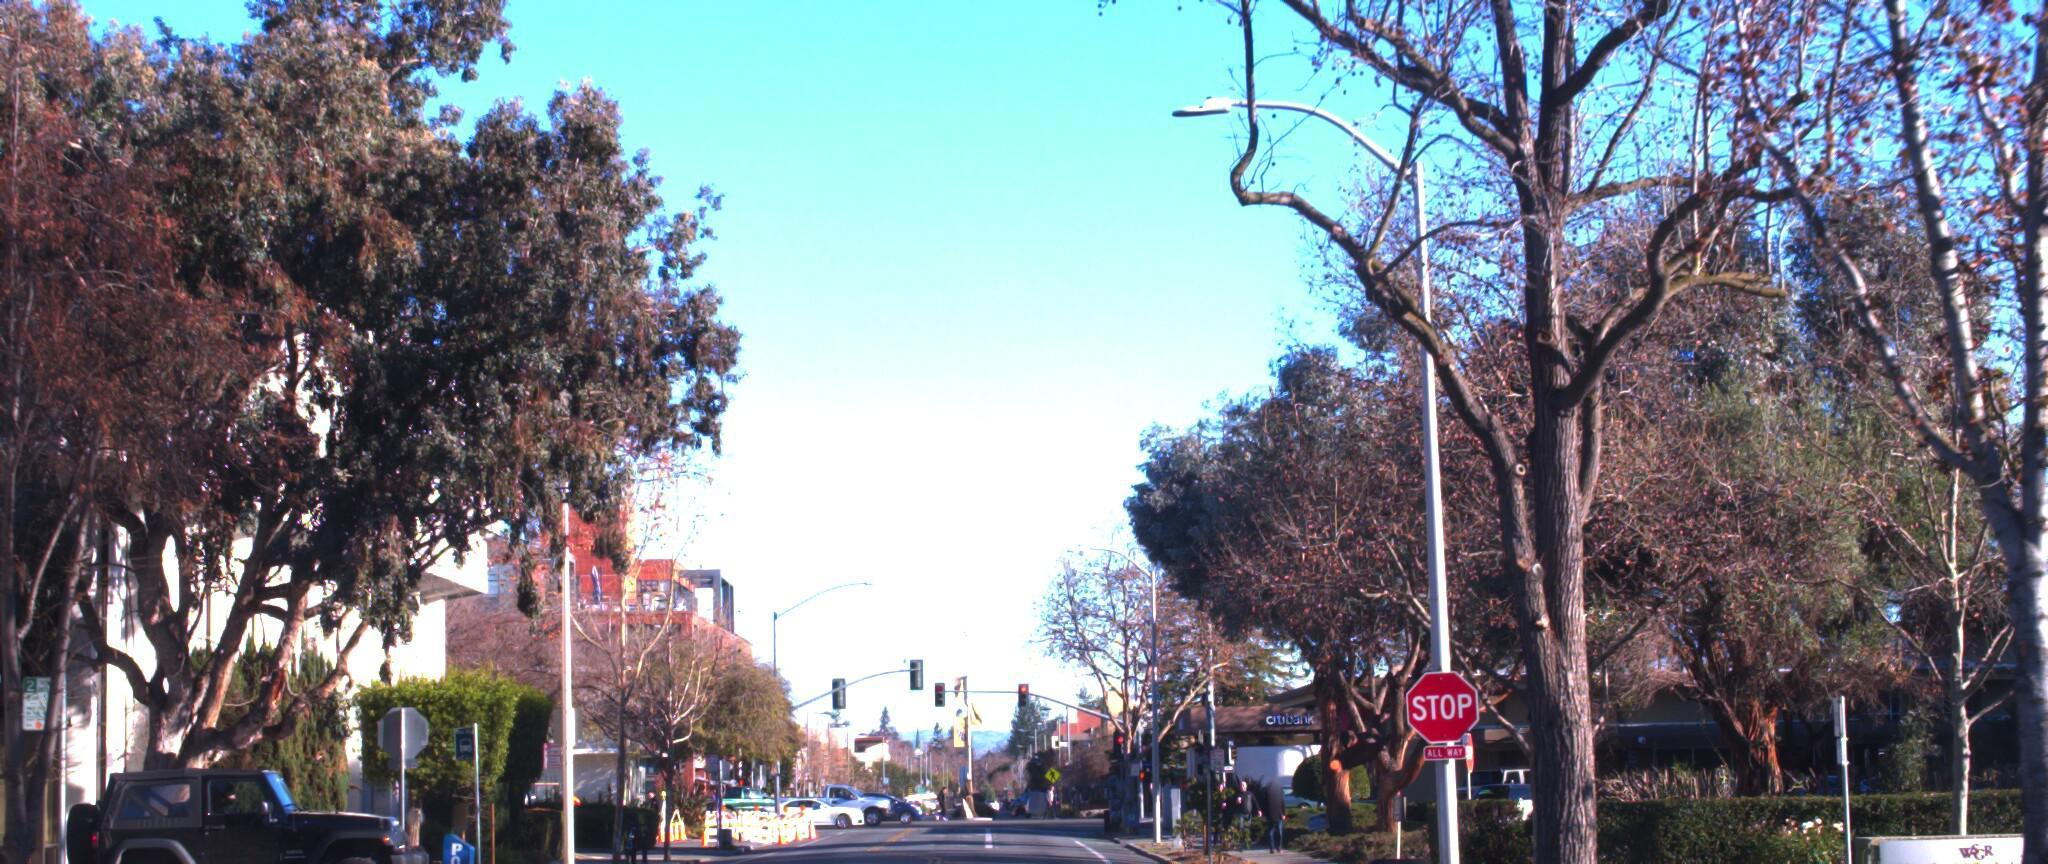car: (71, 750, 441, 864)
